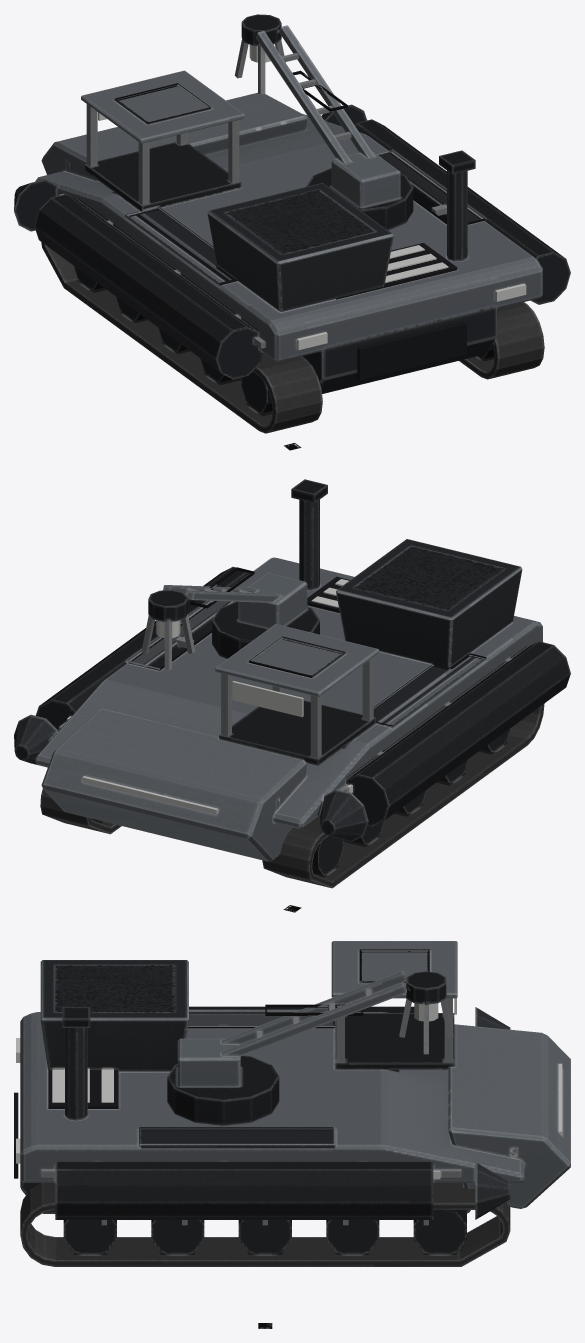
File: chs_dredger.fbx
The picture shows the model from 3 angles, top to bottom: view 1: azimuth 30°, elevation 25°; view 2: azimuth 150°, elevation 25°; view 3: azimuth 270°, elevation 25°; orthographic projection. The views are drawn at different scales.
Visible parts, largest first — view 1: base_bar, trackL_bar, nano_bar, trackR_bar, base_glow_running_bar; view 2: base_bar, trackL_bar, nano_bar, base_glow_head_bar, base_glow_running_bar, trackR_bar; view 3: base_bar, trackR_bar, nano_bar, base_glow_running_bar.
Part boxes in pixels (x1,y1,x2,y2): base_bar: [14, 70, 570, 393]; trackL_bar: [41, 242, 322, 433]; nano_bar: [234, 14, 413, 230]; trackR_bar: [459, 302, 544, 379]; base_glow_running_bar: [296, 245, 526, 350]; base_bar: [14, 479, 570, 861]; trackL_bar: [262, 703, 544, 888]; nano_bar: [141, 567, 319, 669]; base_glow_head_bar: [232, 681, 303, 810]; base_glow_running_bar: [67, 579, 352, 814]; trackR_bar: [40, 788, 121, 834]; base_bar: [14, 941, 570, 1225]; trackR_bar: [20, 1183, 510, 1266]; nano_bar: [167, 970, 453, 1125]; base_glow_running_bar: [16, 1038, 562, 1179].
Size of the model in its own units: 608 by 586 by 796.
Materials: 2 (2 with a texture image).
